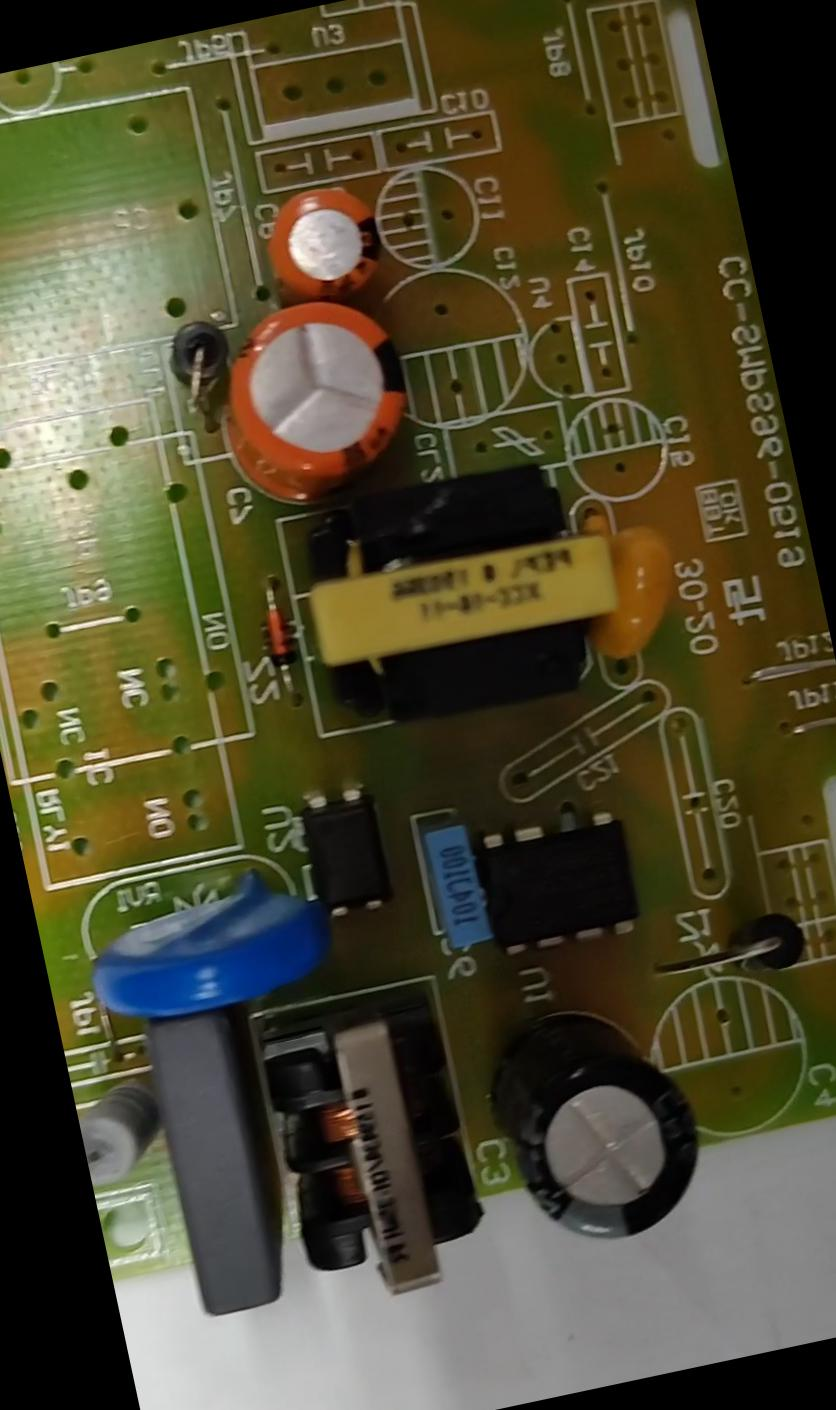Cap1: (206, 284, 426, 514)
Cap2: (255, 179, 387, 310)
Cap3: (490, 996, 710, 1256)
MOSFET: (478, 808, 646, 961)
Mov: (80, 874, 337, 1034)
Resistor: (74, 1077, 164, 1187)
Transformer: (291, 450, 626, 720), (253, 1008, 494, 1318)
